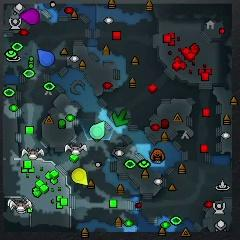p1: (37, 50, 55, 67)
p2: (89, 121, 106, 140)
p3: (19, 8, 40, 24)
p4: (72, 168, 89, 185)
x4: (113, 108, 129, 127)
